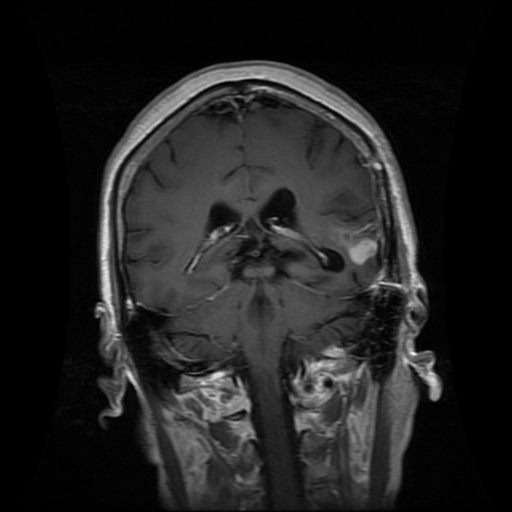glioma: (328, 222, 383, 267)
